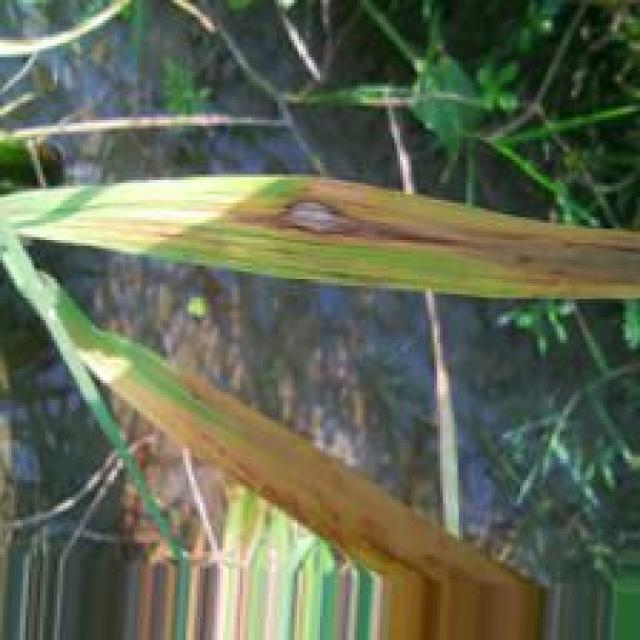Leaf_Blast: (225, 189, 640, 297)
